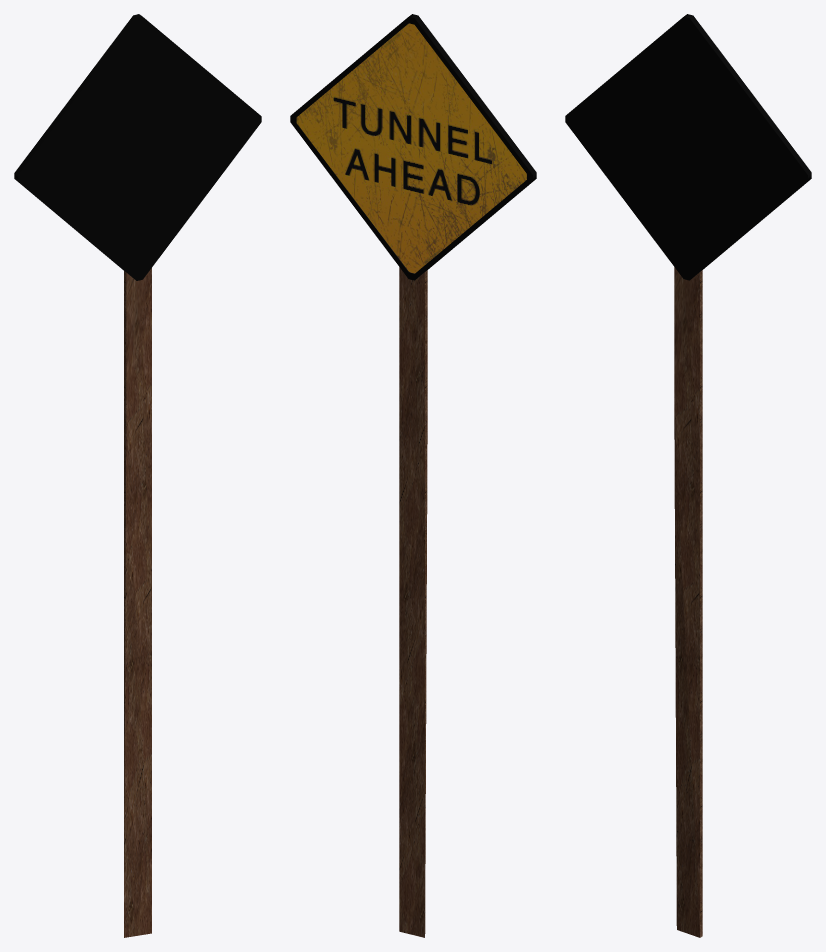
File: fbxSign.fbx
The picture shows the model from 3 angles, left to right: view 1: azimuth 30°, elevation 25°; view 2: azimuth 150°, elevation 25°; view 3: azimuth 330°, elevation 25°; orthographic projection.
Visible parts, largest first — view 1: sign; view 2: sign; view 3: sign.
Boxes of the visible parts, <box> form: sign: <box>14,14,261,937</box>; sign: <box>290,14,536,937</box>; sign: <box>565,14,811,937</box>.
Size of the model in its own units: 1.24 by 4.46 by 0.0327.
Materials: 3 (2 with a texture image).
